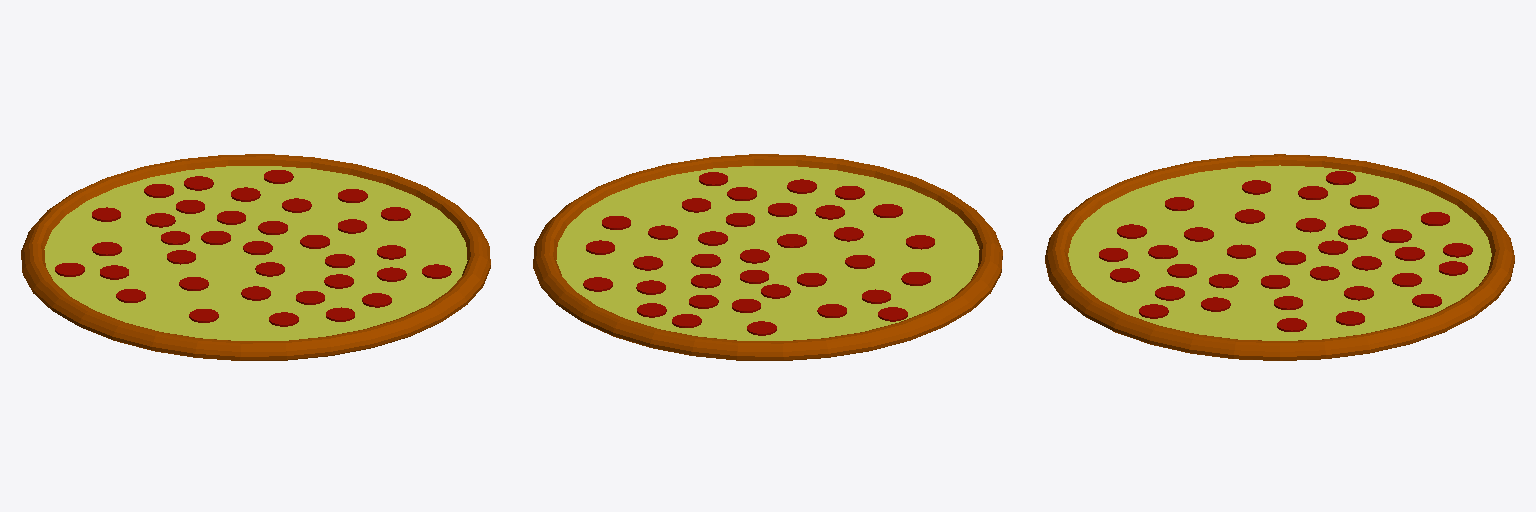
The model's file is pizza.obj.
3 views of the same model, side by side, from view 1: azimuth 30°, elevation 25°; view 2: azimuth 150°, elevation 25°; view 3: azimuth 270°, elevation 25° (orthographic).
Bounding box in the file's own units: 2.22 × 0.0738 × 2.22.